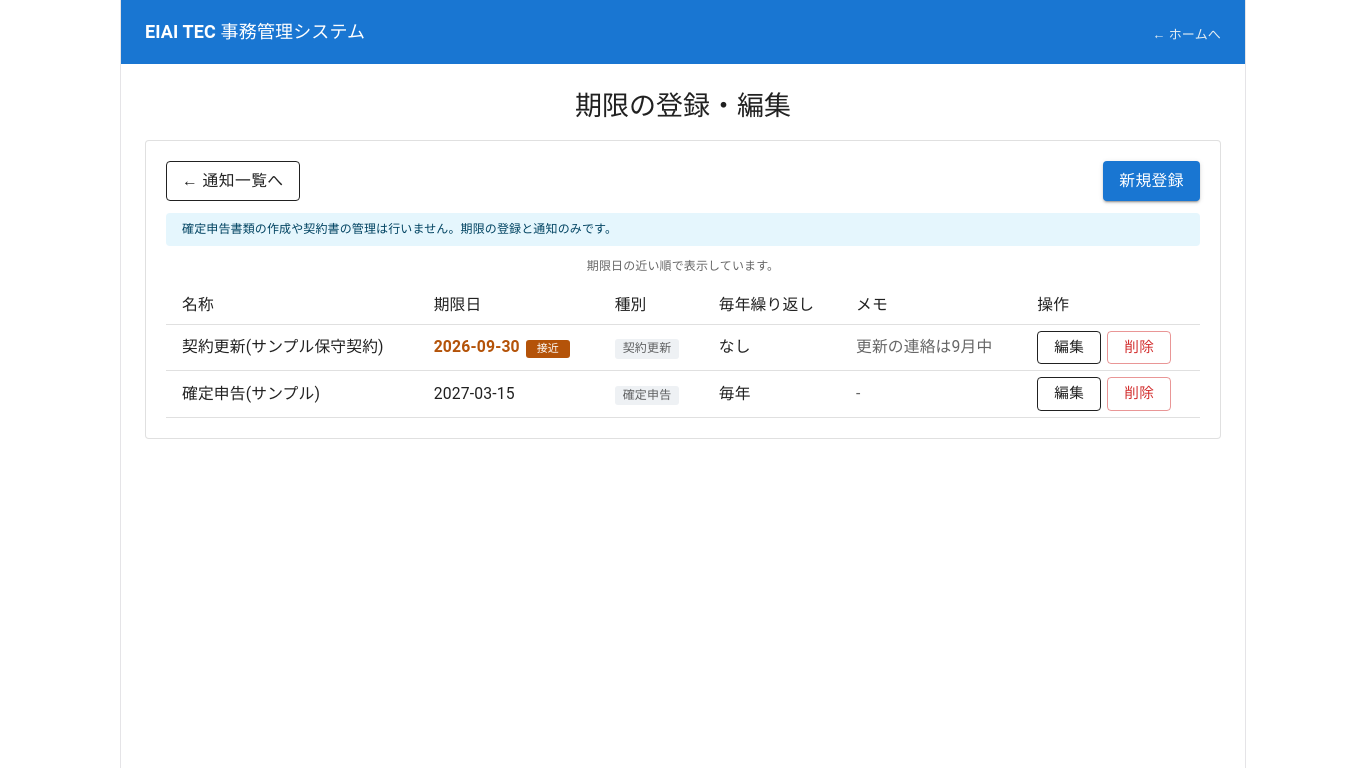
Test: DeadlineListPage (SC-17) › 新規登録: 名称・期限日が未入力なら保存せず、入力メッセージを表示する
The image size is (1366, 768).
Expected: the text "契約更新(サンプル保守契約)" is shown, [166,324,418,371]
Click the button "新規登録": [1152, 181] box [1103,161,1200,201]
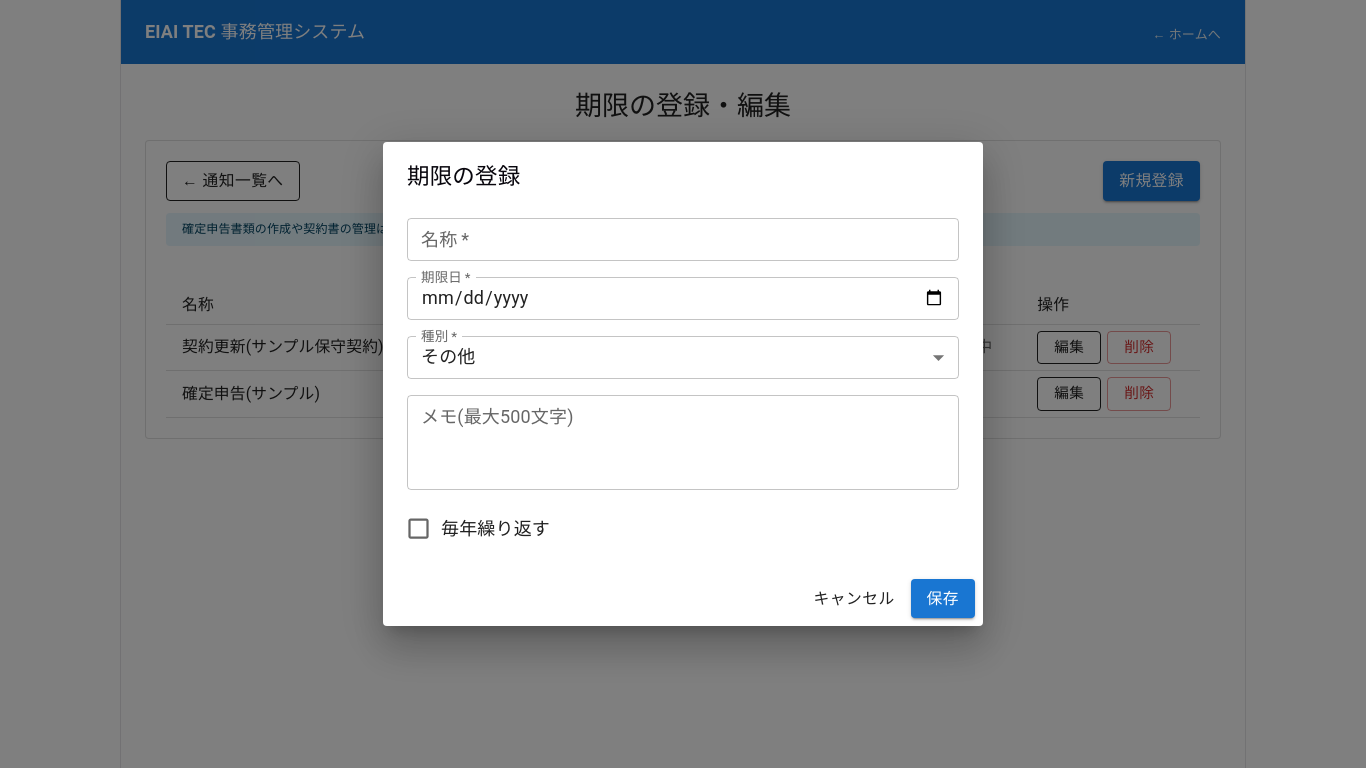
Click the button "保存": [943, 598] box [911,578,975,618]
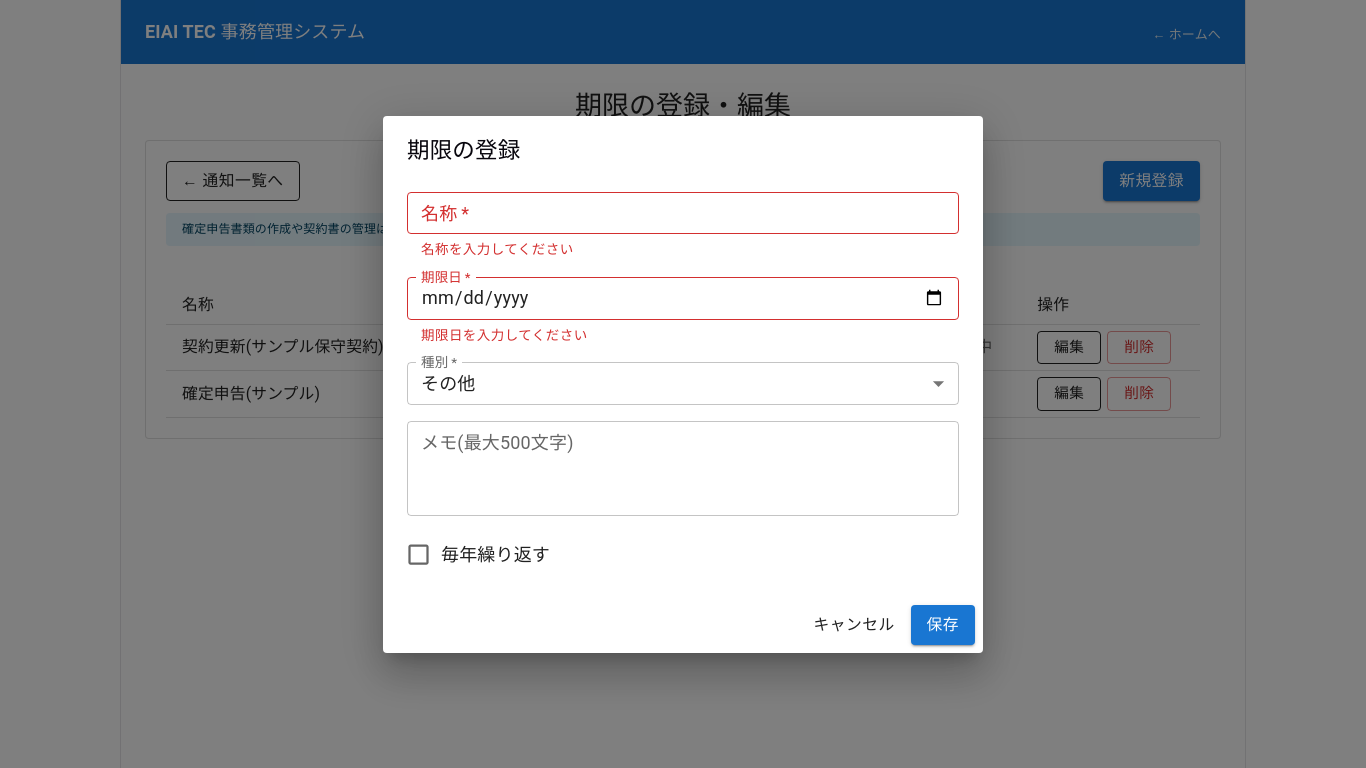
Expected: the text "名称を入力してください" is shown, [421,241,574,257]
Expected: the text "期限日を入力してください" is shown, [421,327,588,343]
